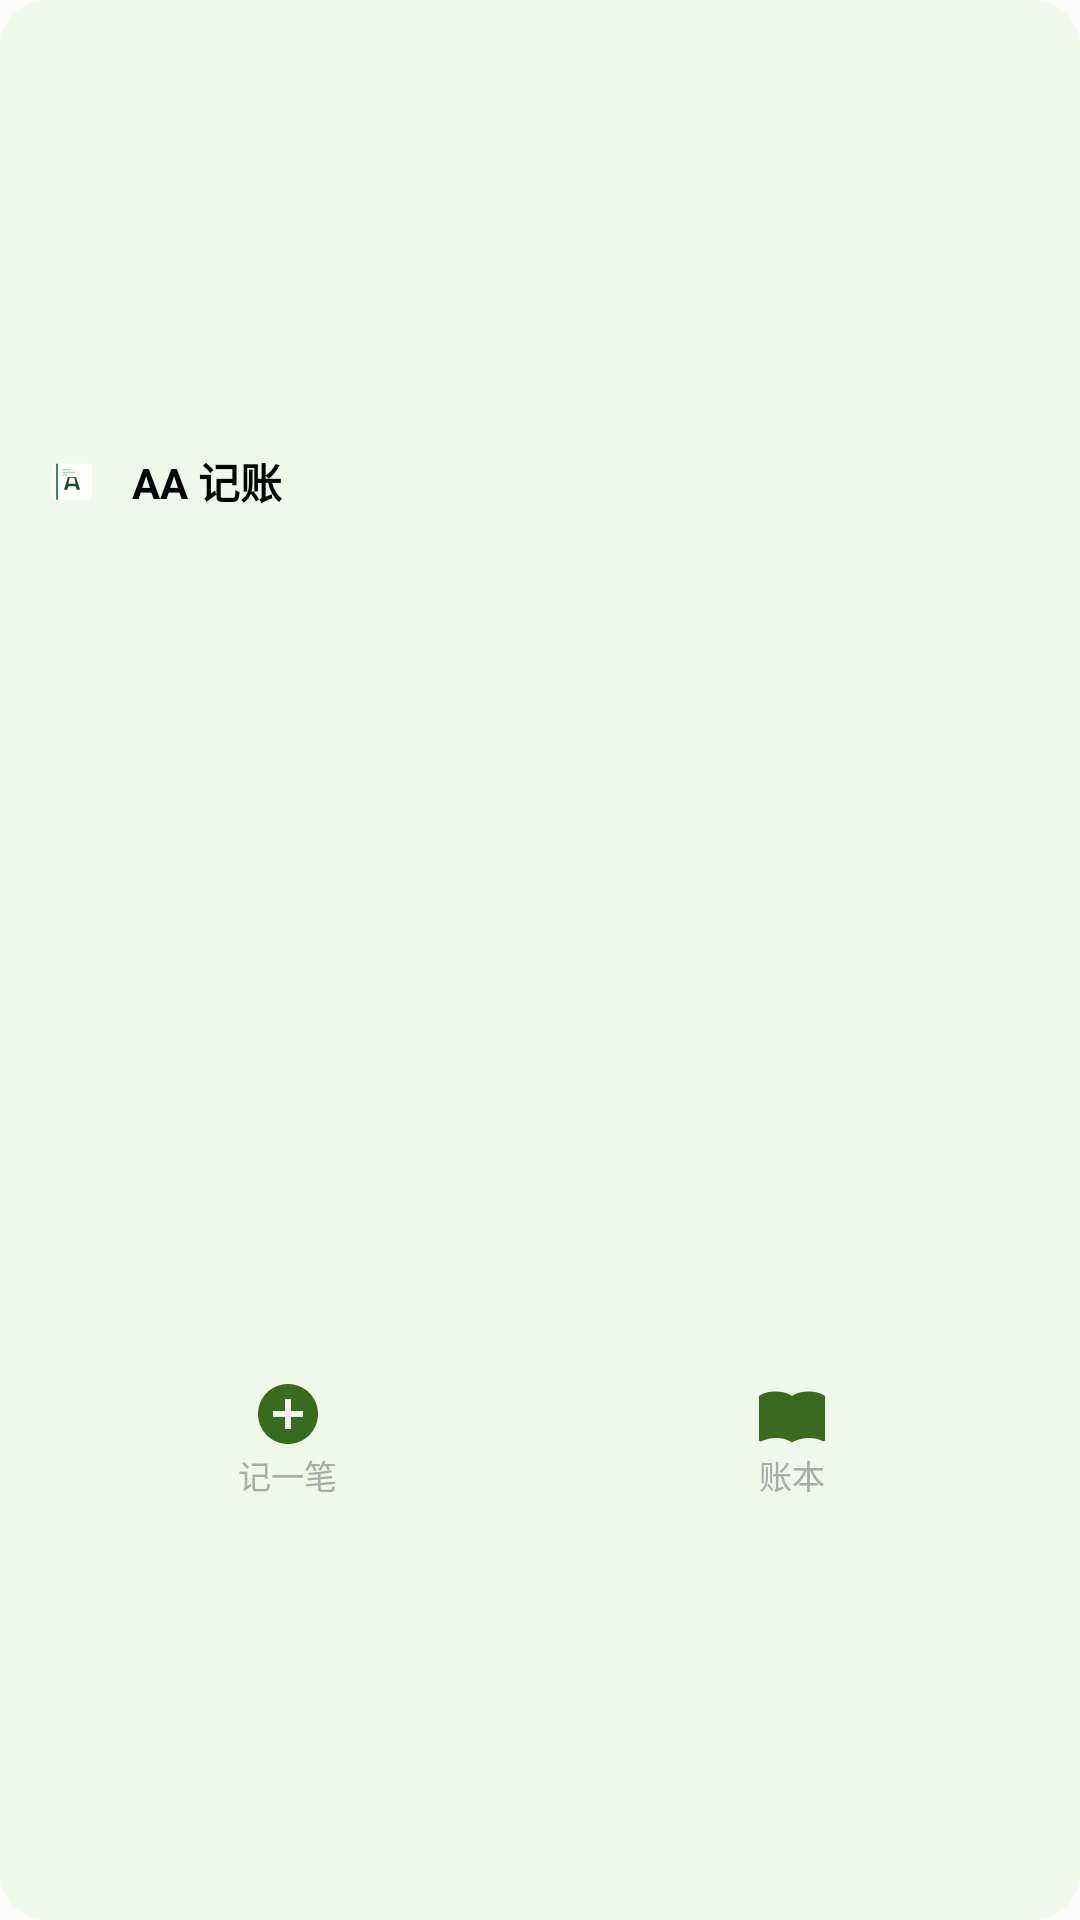

Icon bounding boxes for this 1080px x 1920px phone screenshot, format {"left": x1, "top": y1, "right": x2, "bottom": y2}:
add circle: {"left": 258, "top": 1384, "right": 318, "bottom": 1444}
